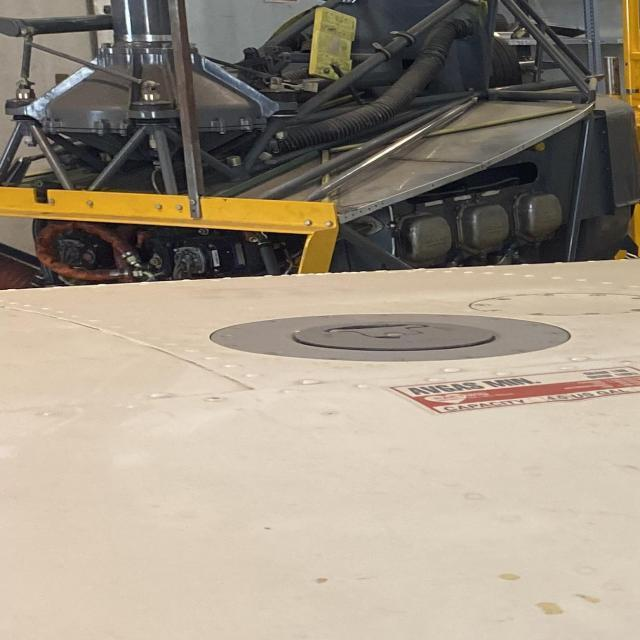Paint-off: (572, 590, 605, 606), (537, 602, 562, 615), (498, 573, 521, 581), (315, 578, 329, 584)
